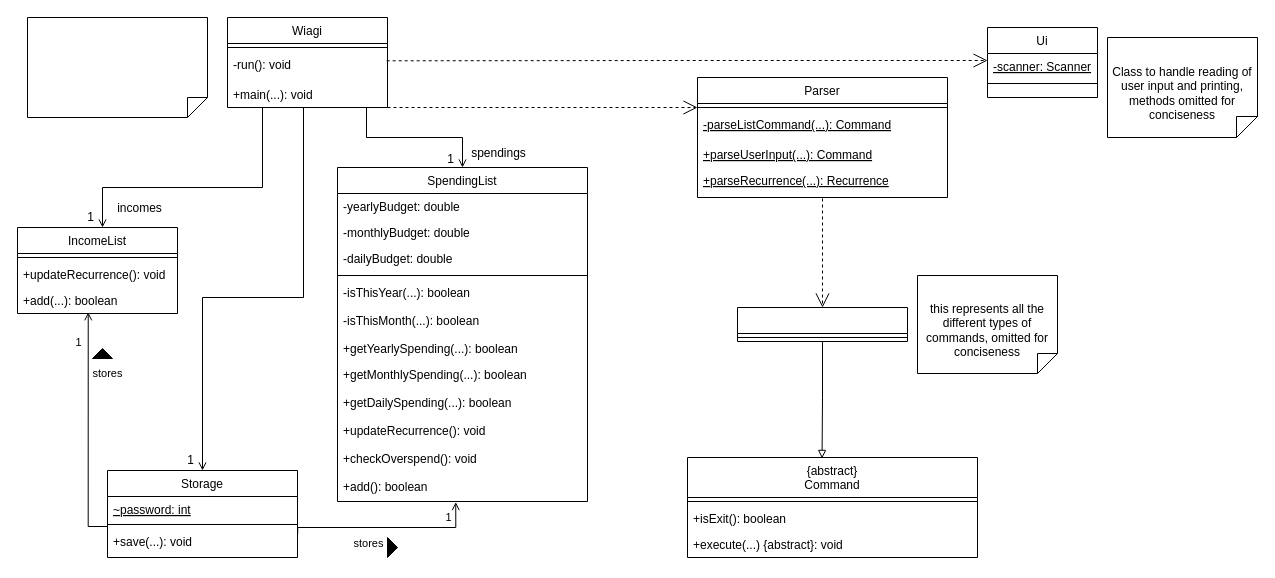
Image size: 1275x578. Some labels were removed from this diagram. The centre of each missing label's shape, as x and y in pixels:
"individual command classes" belongs at (x=822, y=324).
"many of the classes and methods for get and set are omitted for conciseness" belongs at (x=117, y=67).
